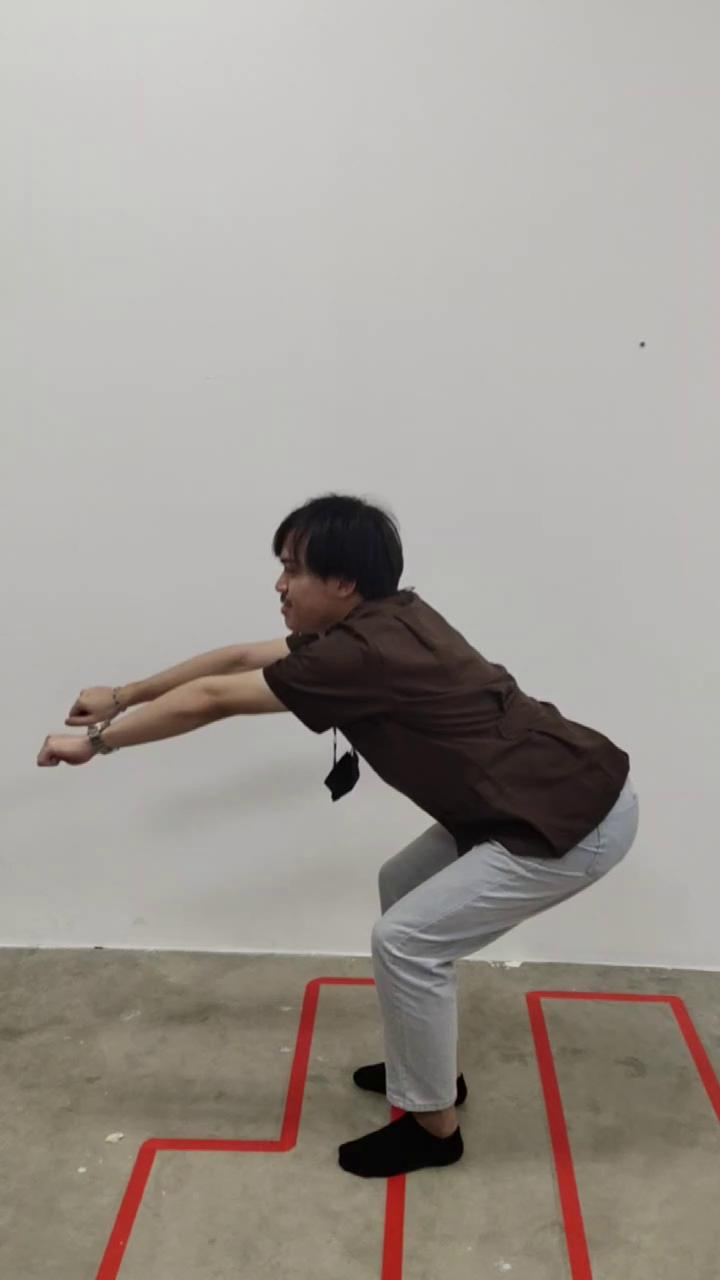squat down: (38, 495, 638, 1178)
